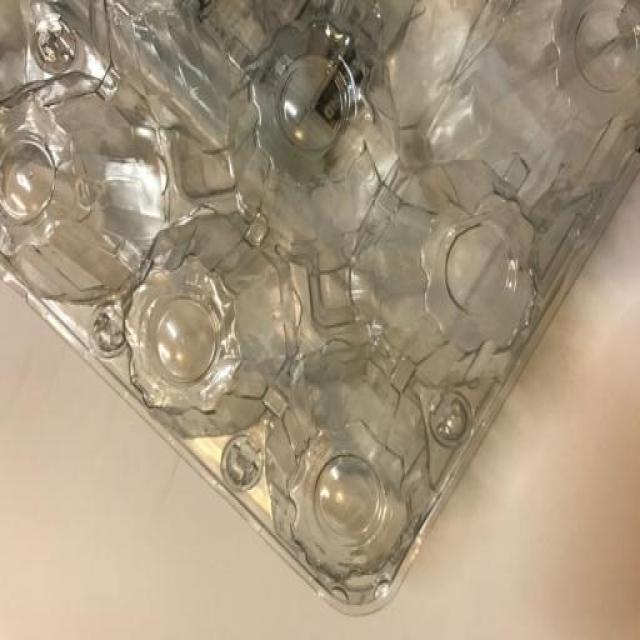plastic: (1, 2, 640, 618)
